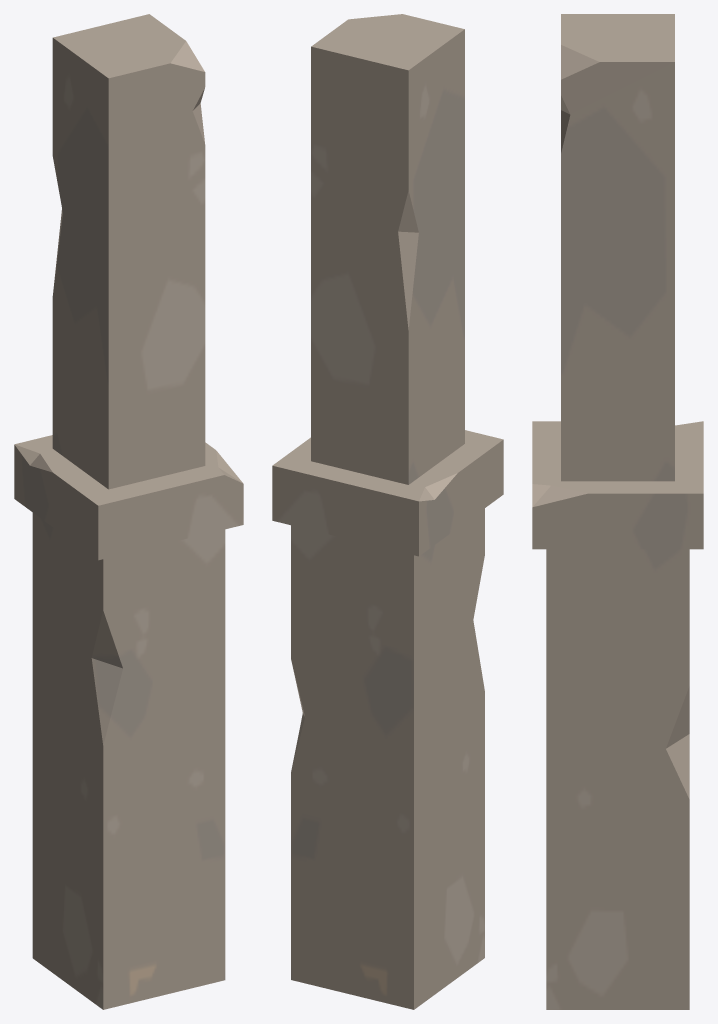
File: SM_Bld_Village_Archway_Pillar_01.fbx
3 views of the same model, side by side, from view 1: azimuth 30°, elevation 25°; view 2: azimuth 150°, elevation 25°; view 3: azimuth 270°, elevation 25° (orthographic).
Parts seen in each view (by area): view 1: SM_Bld_Village_Archway_Pillar_01; view 2: SM_Bld_Village_Archway_Pillar_01; view 3: SM_Bld_Village_Archway_Pillar_01.
Boxes of the visible parts, bbox=[...] form: SM_Bld_Village_Archway_Pillar_01: bbox=[14, 14, 243, 1009]; SM_Bld_Village_Archway_Pillar_01: bbox=[272, 14, 503, 1009]; SM_Bld_Village_Archway_Pillar_01: bbox=[532, 14, 703, 1009].
Size of the model in its own units: 70.77 by 429 by 70.77.
